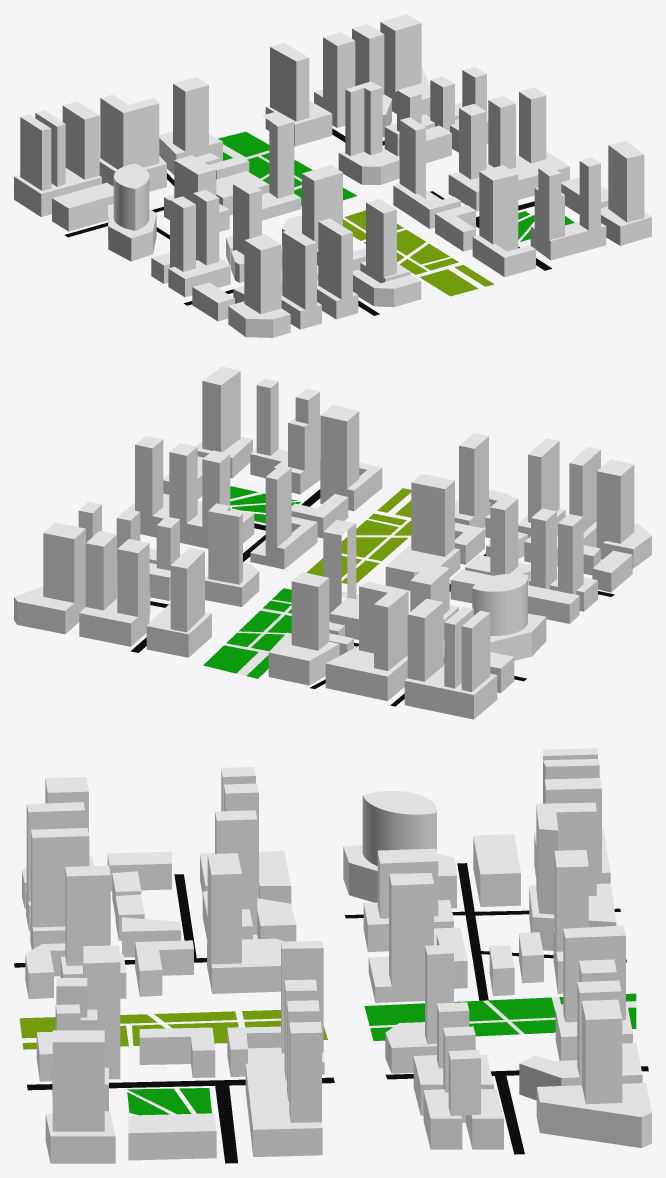
3 renders of one model, top to bottom at view 1: azimuth 30°, elevation 25°; view 2: azimuth 150°, elevation 25°; view 3: azimuth 270°, elevation 25°, orthographic. The views are drawn at different scales.
Parts seen in each view (by area): view 1: ID170, ID79, ID456, ID268, ID93, ID361, ID386, ID302, ID310, ID254, ID100, ID449 (+34 smaller); view 2: ID456, ID170, ID361, ID449, ID79, ID310, ID282, ID268, ID93, ID254, ID386, ID86 (+32 smaller); view 3: ID449, ID302, ID282, ID568, ID100, ID86, ID33, ID456, ID575, ID254, ID386, ID494 (+50 smaller).
Boxes of the visible parts, bbox=[...] form: ID170: bbox=[151, 189, 230, 297]; ID79: bbox=[530, 157, 606, 260]; ID456: bbox=[314, 24, 391, 136]; ID268: bbox=[472, 165, 535, 277]; ID93: bbox=[228, 234, 290, 337]; ID361: bbox=[14, 101, 101, 216]; ID386: bbox=[100, 94, 159, 169]; ID302: bbox=[216, 111, 301, 220]; ID310: bbox=[159, 77, 222, 174]; ID254: bbox=[393, 117, 460, 228]; ID100: bbox=[317, 218, 358, 319]; ID449: bbox=[380, 14, 430, 116]; ID456: bbox=[79, 531, 150, 646]; ID170: bbox=[528, 508, 597, 623]; ID361: bbox=[404, 598, 497, 719]; ID449: bbox=[14, 522, 85, 634]; ID79: bbox=[250, 378, 320, 494]; ID310: bbox=[268, 572, 339, 685]; ID282: bbox=[385, 473, 460, 590]; ID268: bbox=[320, 405, 382, 511]; ID93: bbox=[596, 459, 651, 568]; ID254: bbox=[250, 465, 317, 569]; ID386: bbox=[359, 581, 408, 670]; ID86: bbox=[450, 495, 530, 603]; ID449: bbox=[536, 999, 651, 1147]; ID302: bbox=[368, 872, 467, 1002]; ID282: bbox=[207, 853, 283, 993]; ID568: bbox=[52, 1030, 104, 1131]; ID100: bbox=[30, 828, 89, 949]; ID86: bbox=[202, 810, 296, 941]; ID33: bbox=[245, 1063, 322, 1157]; ID456: bbox=[519, 959, 642, 1100]; ID575: bbox=[60, 865, 126, 998]; ID254: bbox=[227, 941, 324, 1076]; ID386: bbox=[536, 802, 596, 914]; ID494: bbox=[362, 791, 436, 865].
Bounding box in the file's own units: 465 × 83.98 × 416.
